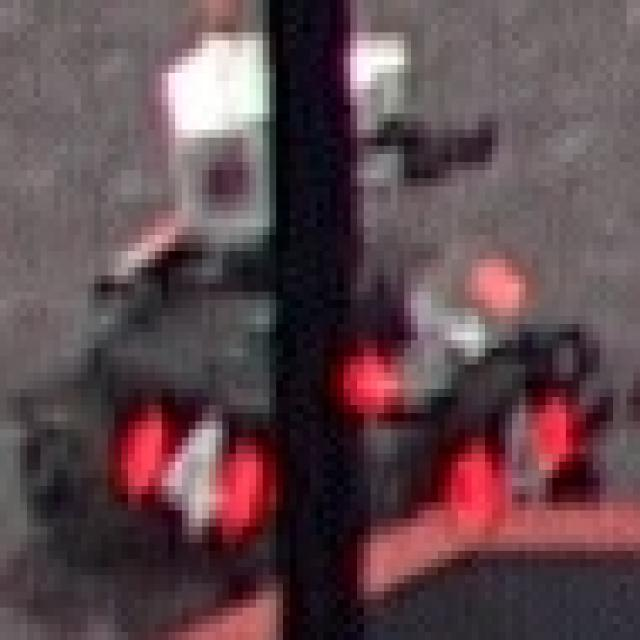R4: (122, 397, 270, 535), (451, 381, 573, 518)
